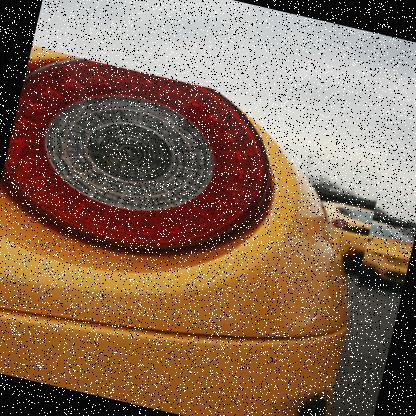Car: (0, 47, 394, 415), (294, 206, 416, 292)
